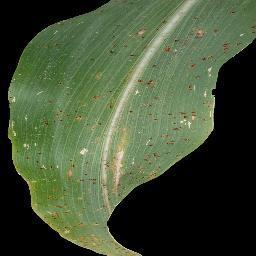Corn_Common_Rust: (24, 155, 201, 256), (89, 72, 228, 158), (176, 15, 256, 84), (109, 9, 179, 81), (29, 32, 100, 68), (11, 79, 29, 180), (36, 97, 89, 126), (54, 76, 84, 97), (223, 2, 254, 22), (113, 2, 151, 13), (84, 10, 111, 25), (70, 145, 94, 161), (23, 134, 51, 146), (45, 43, 49, 44)
